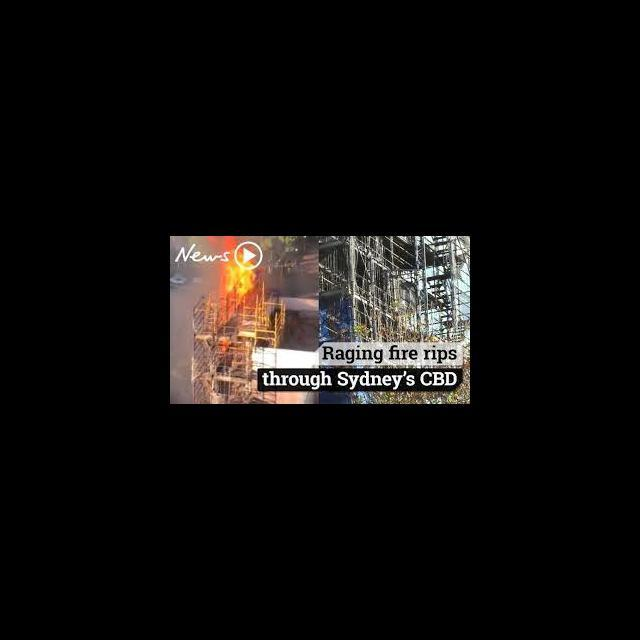Fire: (214, 248, 260, 298)
